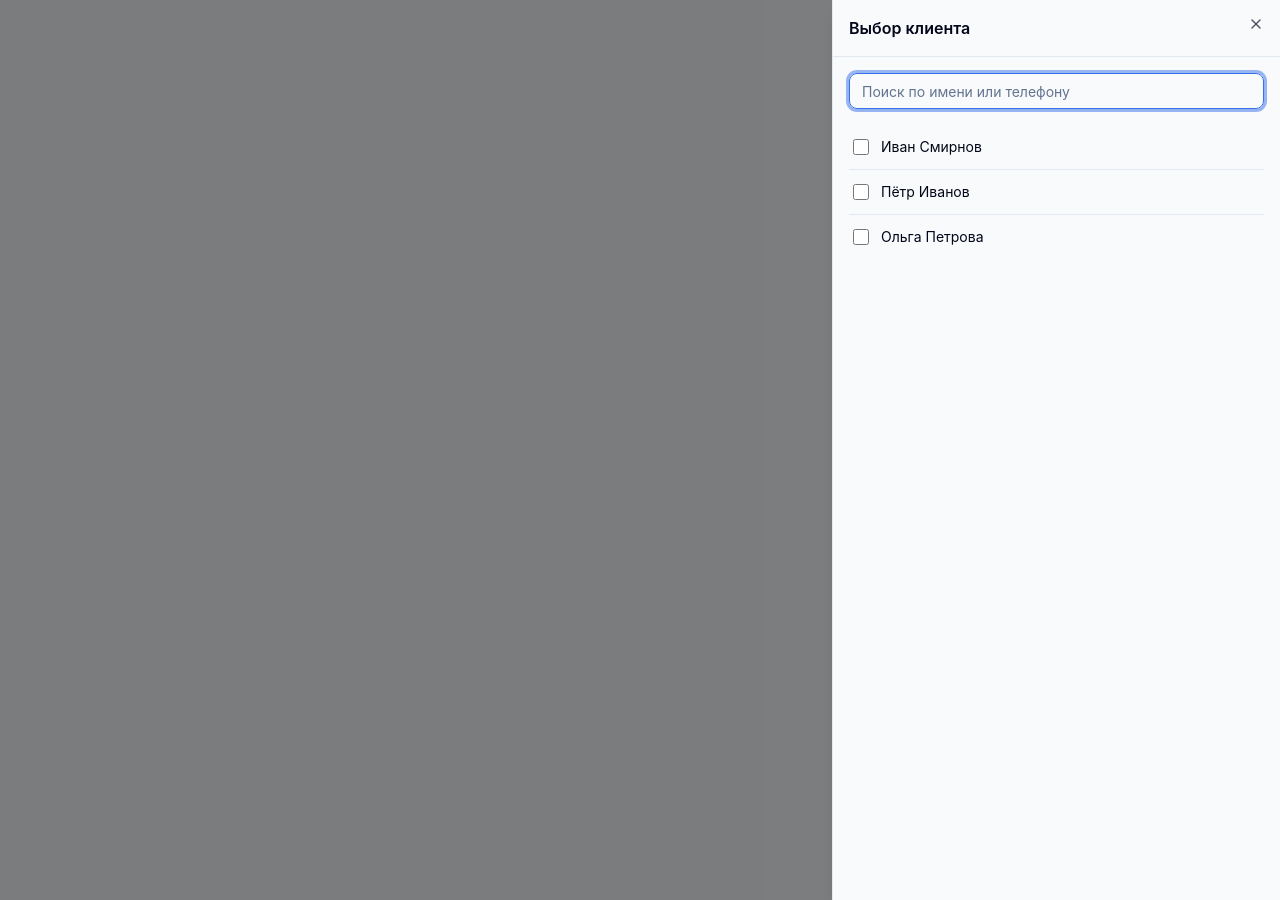
Test: панель выбора клиента › ищет по имени одним запросом после паузы ввода
Check: the text "Ольга Петрова" is shown, box [881, 228, 984, 245]
Type "иван" into the search field labelled "Поиск по имени или телефону".
click(1056, 91); type("иван")  # box [849, 73, 1264, 109]
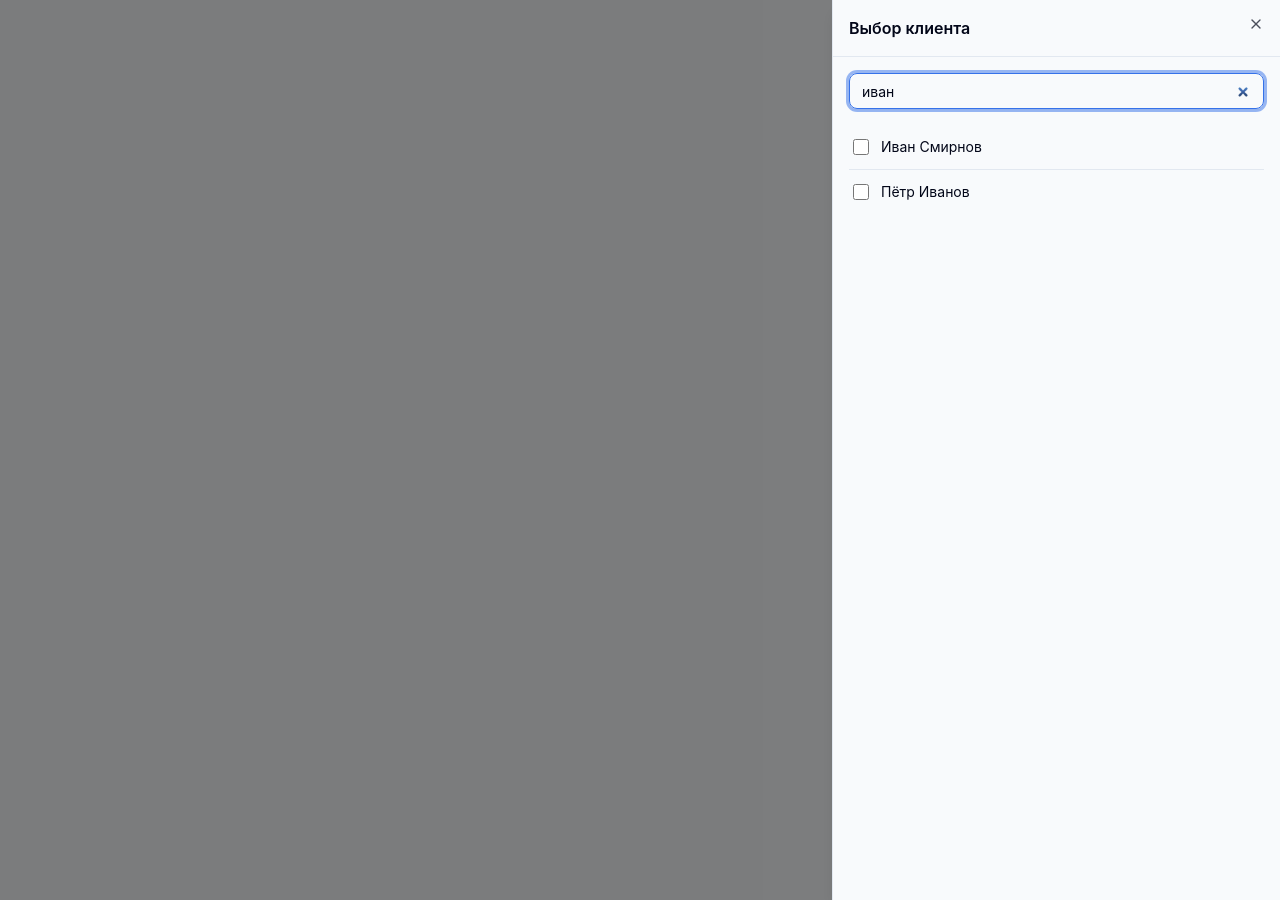
Check: the text "Иван Смирнов" is shown, box [881, 138, 982, 155]
Check: the text "Ольга Петрова" is gone
